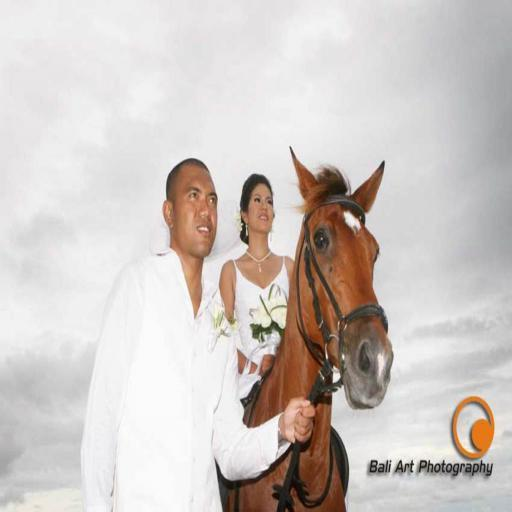horse: (215, 142, 394, 508)
